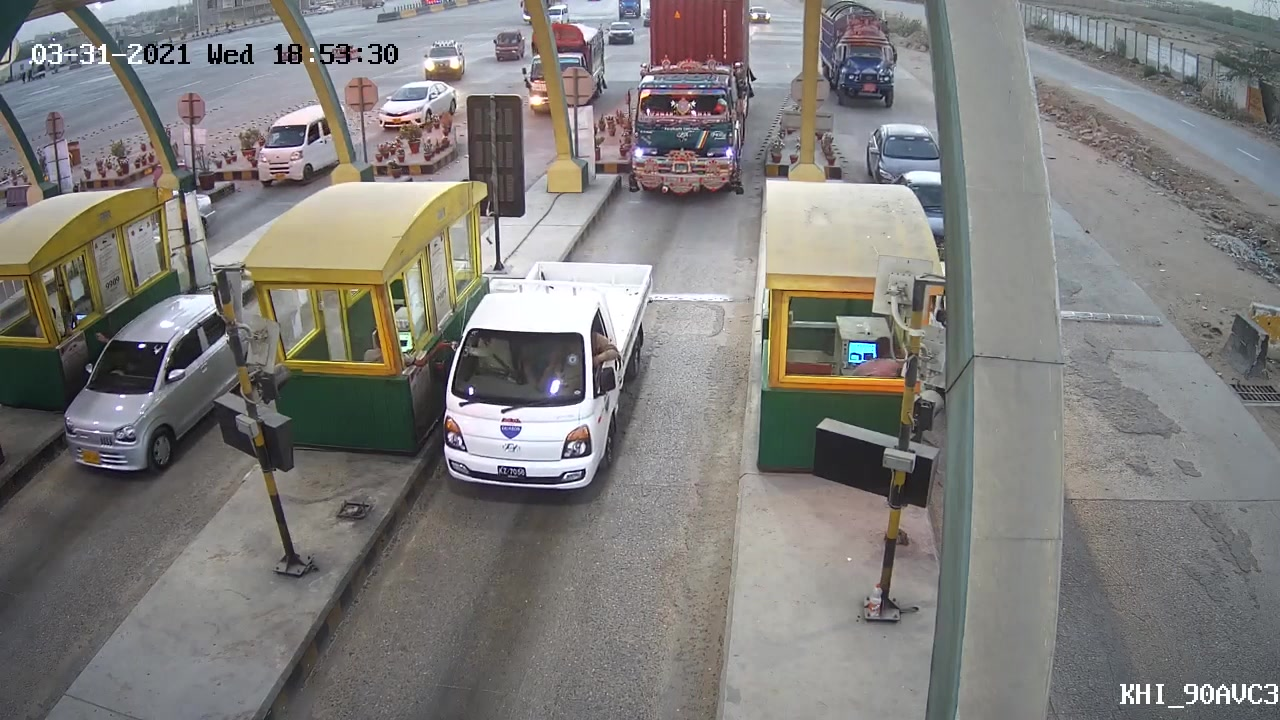F2: (439, 255, 657, 502)
F6: (610, 1, 759, 204)
